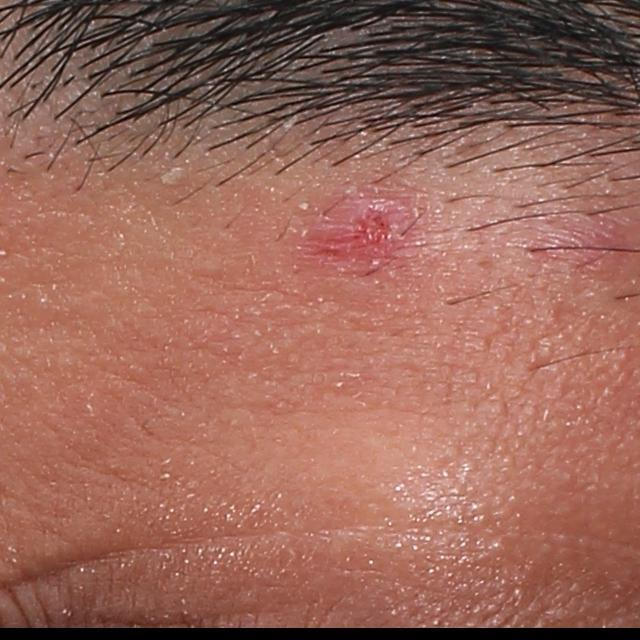papule: (318, 200, 407, 271)
